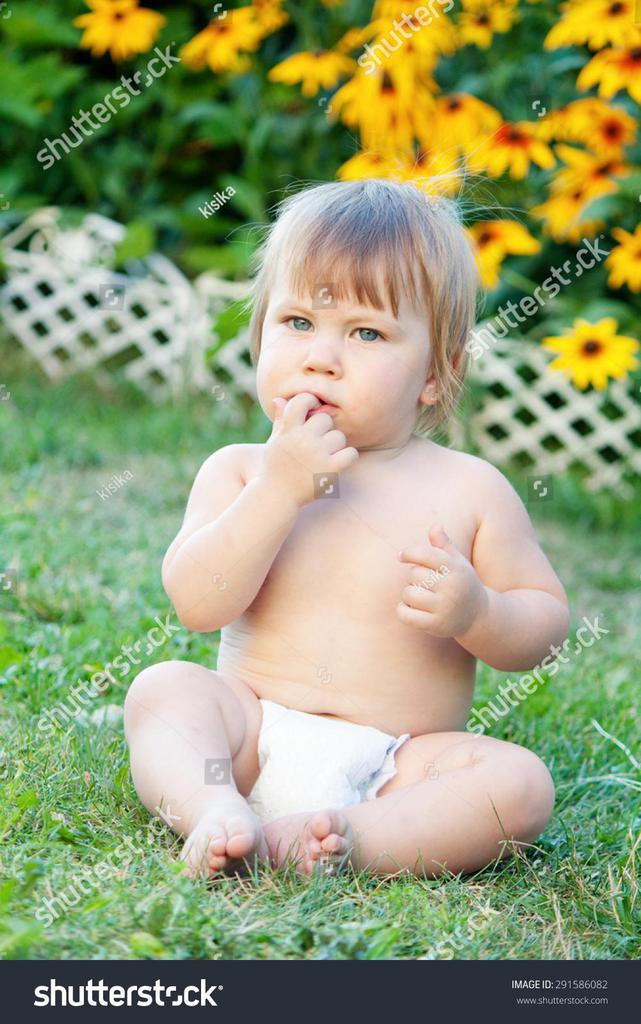child: (77, 161, 581, 897)
